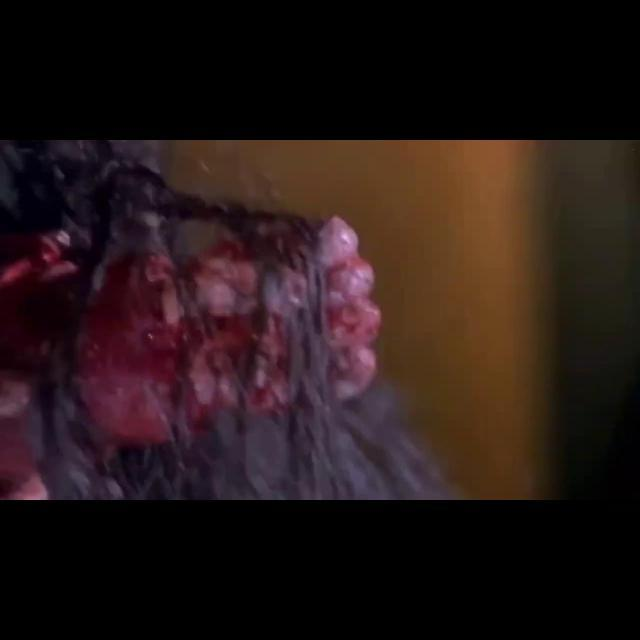blood: (0, 169, 381, 499)
